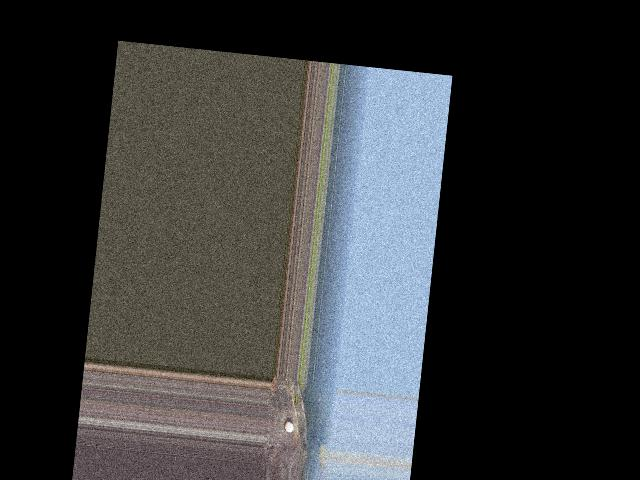egg: (284, 421, 294, 433)
